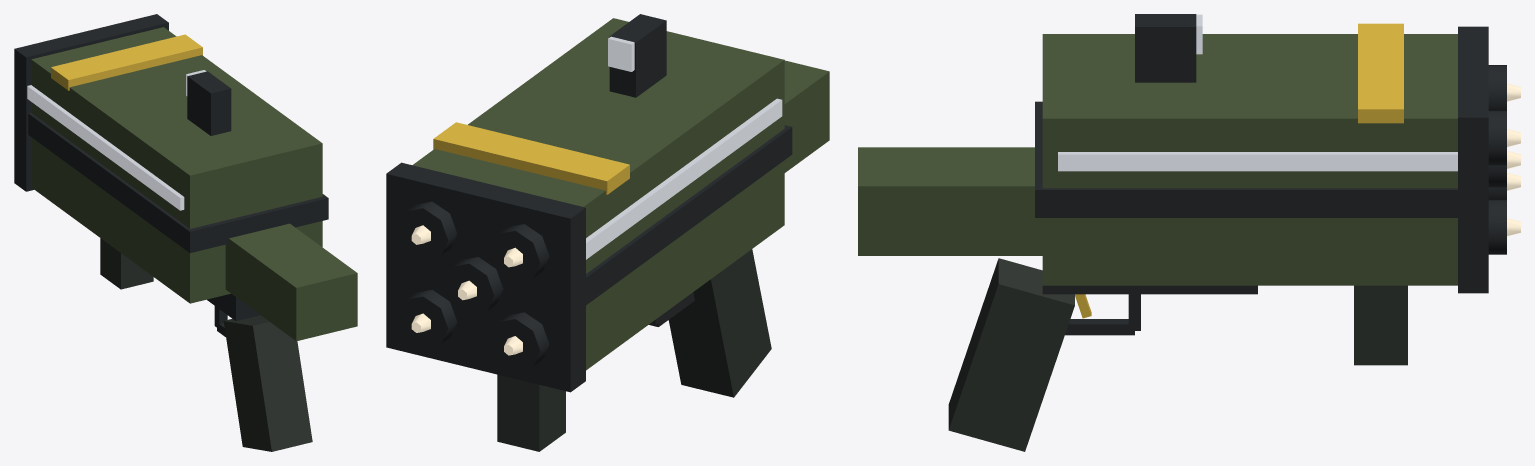
Rendered from BO_SK_Weapon_Swarm_v001.glb.
3 renders of one model, left to right at view 1: azimuth 30°, elevation 25°; view 2: azimuth 150°, elevation 25°; view 3: azimuth 270°, elevation 25°, orthographic. The views are drawn at different scales.
Parts seen in each view (by area): view 1: body_000, body_019, body_014, body_001, body_002, body_024, glowfx_023, body_020, body_018, body_013; view 2: body_000, body_002, body_014, body_001, body_024, glowfx_023, body_018, body_019, body_020, body_009, body_010, body_011 (+3 smaller); view 3: body_000, body_019, body_014, body_001, body_002, glowfx_022, body_024, body_018, body_020, body_013, body_015, body_012 (+2 smaller).
Part boxes in pixels (<box>): body_000: <box>31,27,322,303</box>; body_019: <box>225,223,357,341</box>; body_014: <box>223,315,312,451</box>; body_001: <box>28,113,328,252</box>; body_002: <box>14,14,168,191</box>; body_024: <box>51,34,202,90</box>; glowfx_023: <box>27,85,184,210</box>; body_020: <box>187,71,231,135</box>; body_018: <box>100,238,153,289</box>; body_013: <box>207,293,260,321</box>; body_000: <box>412,18,784,370</box>; body_002: <box>386,162,585,392</box>; body_014: <box>668,249,771,397</box>; body_001: <box>586,125,792,305</box>; body_024: <box>433,122,629,194</box>; glowfx_023: <box>586,98,782,259</box>; body_018: <box>497,374,565,451</box>; body_019: <box>784,60,829,172</box>; body_020: <box>609,14,666,97</box>; body_009: <box>490,224,549,282</box>; body_010: <box>398,201,457,260</box>; body_011: <box>490,312,549,371</box>; body_000: <box>1042,34,1457,285</box>; body_019: <box>858,147,1042,255</box>; body_014: <box>948,258,1074,451</box>; body_001: <box>1035,101,1457,217</box>; body_002: <box>1458,26,1488,293</box>; glowfx_022: <box>1058,152,1457,171</box>; body_024: <box>1358,23,1403,123</box>; body_018: <box>1354,285,1407,365</box>; body_020: <box>1135,14,1196,82</box>; body_013: <box>1042,285,1257,294</box>; body_015: <box>1065,319,1134,335</box>; body_012: <box>1488,199,1506,254</box>.
Size of the model in its own units: 0.14 by 0.3002 by 0.431.
